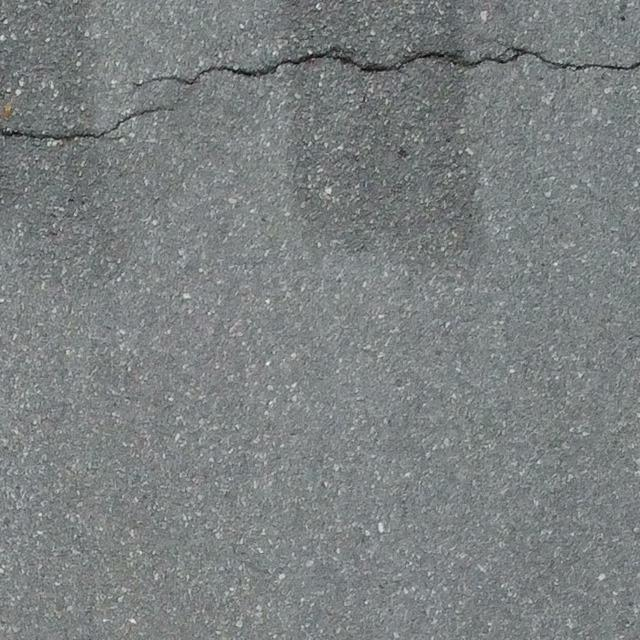TransverseCrack: (128, 42, 640, 91), (1, 106, 170, 140)
